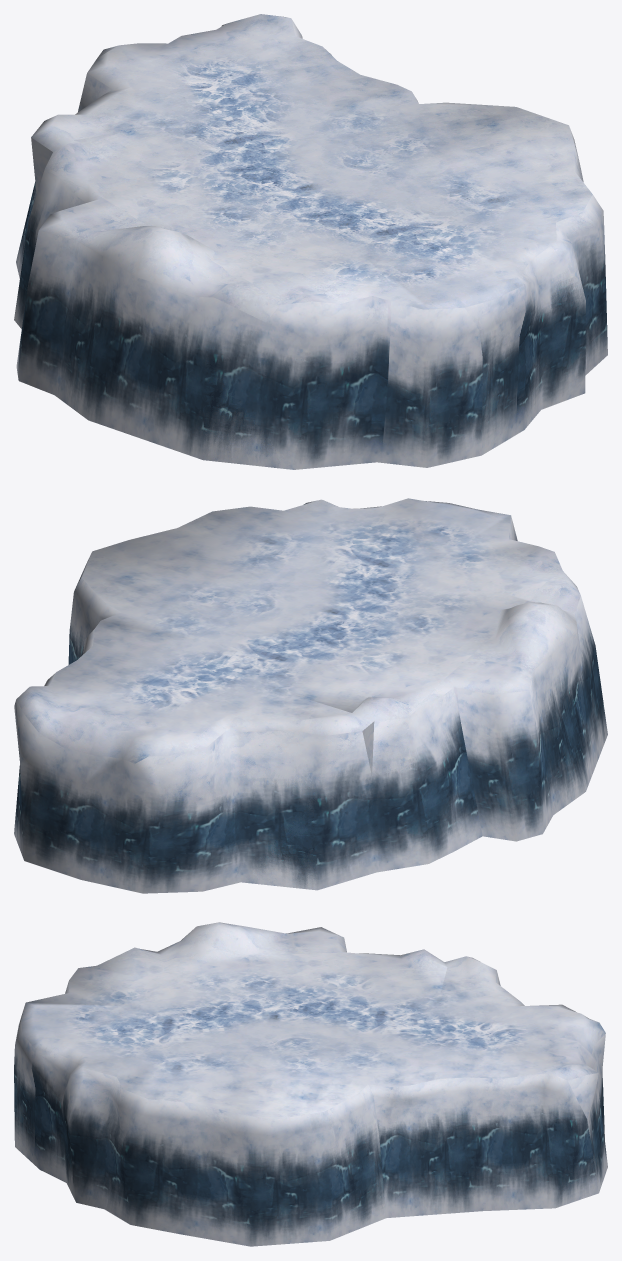
File: Ice_ground01.FBX
3 renders of one model, top to bottom at view 1: azimuth 30°, elevation 25°; view 2: azimuth 150°, elevation 25°; view 3: azimuth 270°, elevation 25°, orthographic. The views are drawn at different scales.
Parts seen in each view (by area): view 1: Ice_ground01; view 2: Ice_ground01; view 3: Ice_ground01.
Boxes of the visible parts, bbox=[...] form: Ice_ground01: bbox=[14, 14, 607, 469]; Ice_ground01: bbox=[14, 498, 607, 893]; Ice_ground01: bbox=[14, 922, 607, 1246].
Bounding box in the file's own units: 1420 × 467 × 1724.
